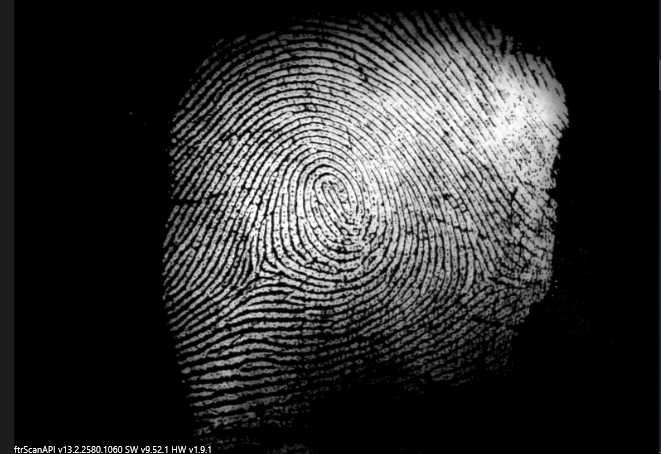nucelo: (317, 182, 347, 215)
verticilo: (467, 267, 501, 292), (252, 256, 281, 279)
